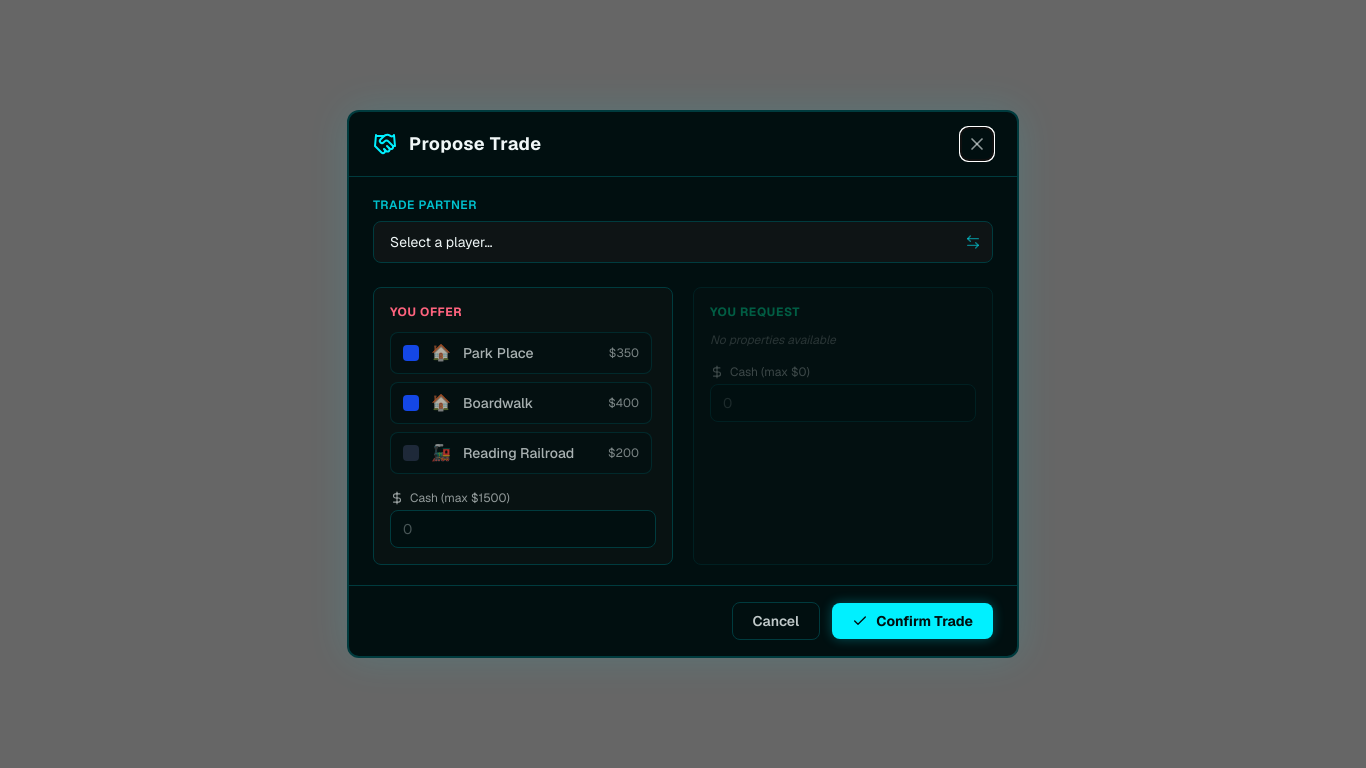
TradeModal › shows error when confirming without selecting a partner
Step 1. Click the button with test id "confirm-button" → (913, 621), box x1=832 y1=603 x2=993 y2=639
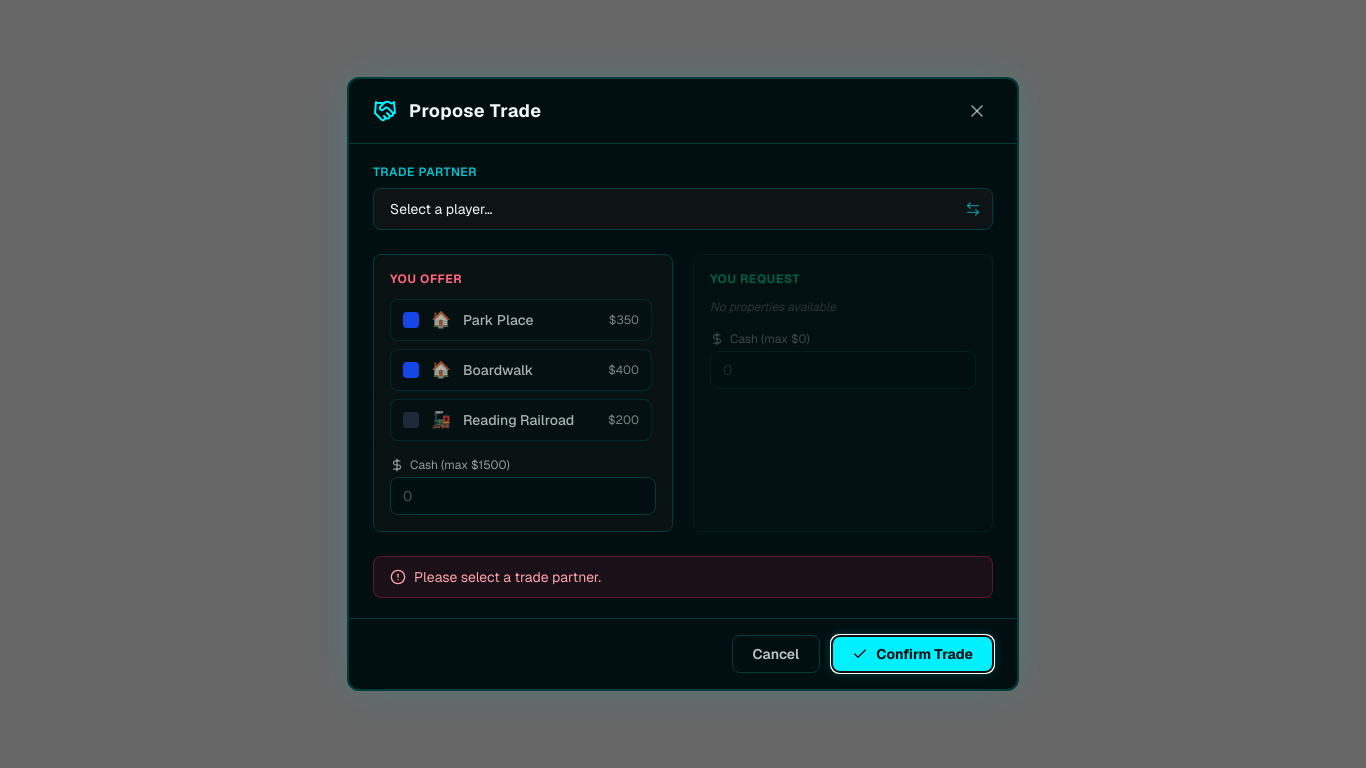
expect the text "Please select a trade partner." is shown: met, box x1=373 y1=556 x2=993 y2=598
